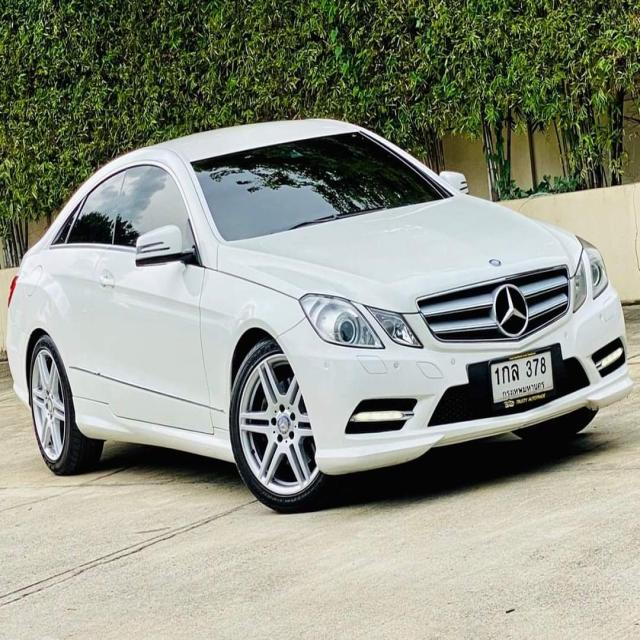license_plate: (489, 344, 557, 414)
